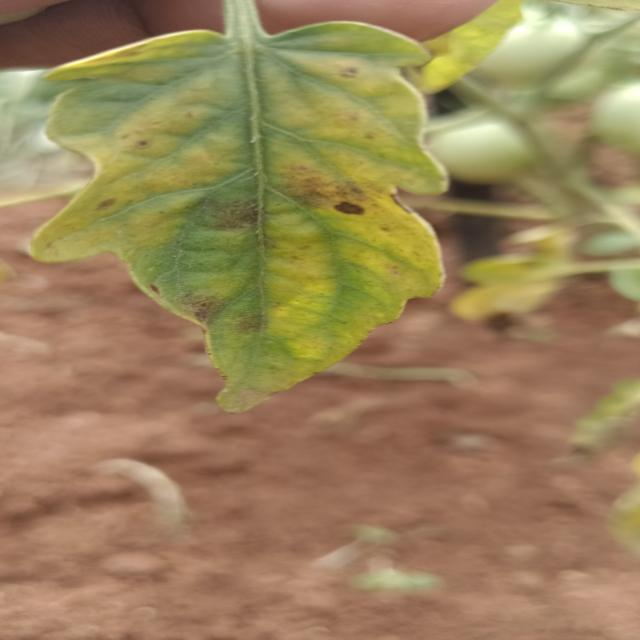tomato_early blight: (35, 19, 446, 412)
